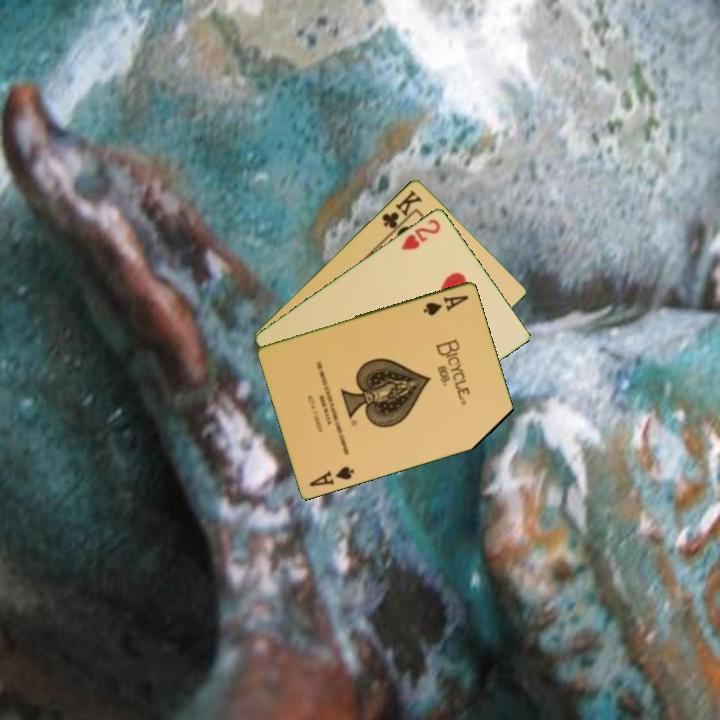2h: (397, 215, 443, 253)
As: (420, 291, 472, 318), (306, 462, 358, 489)
Kc: (378, 186, 425, 237)
